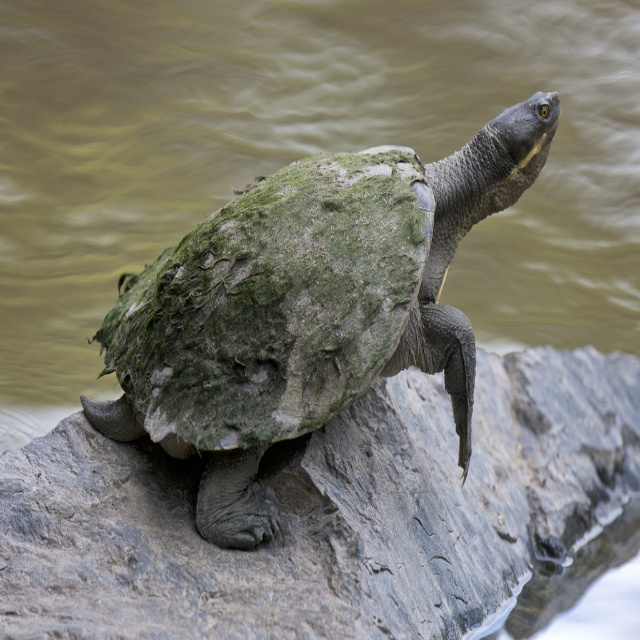Sea turtle: (73, 89, 566, 558)
